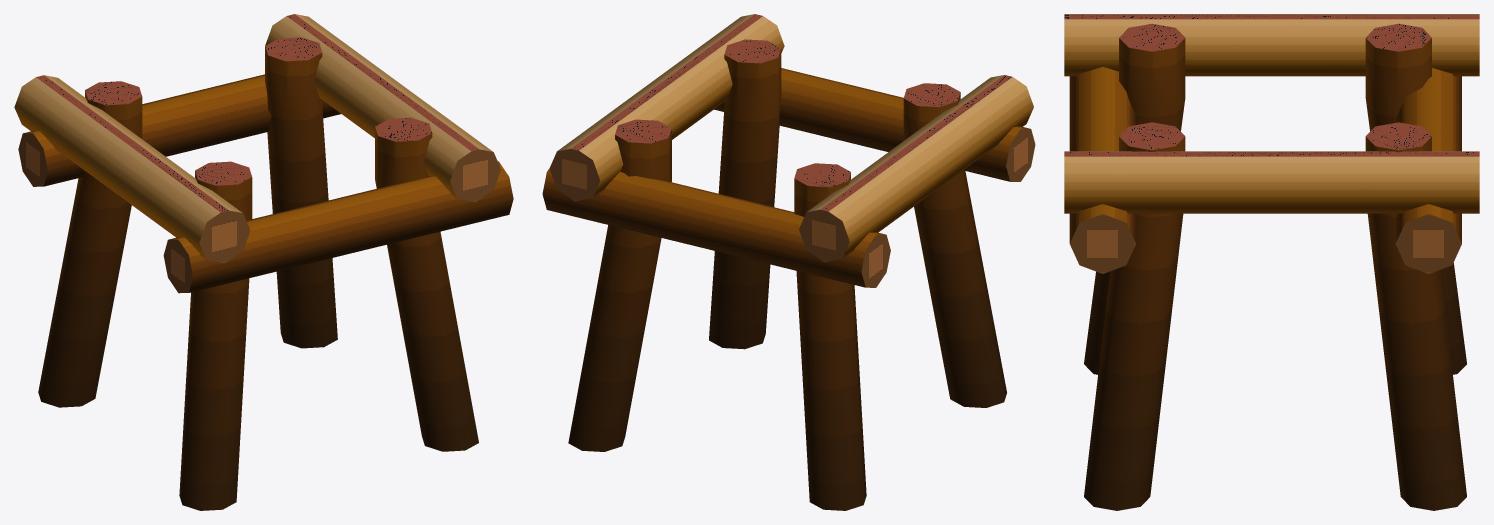
File: TowerLv1Phase1.fbx
The picture shows the model from 3 angles, left to right: view 1: azimuth 30°, elevation 25°; view 2: azimuth 150°, elevation 25°; view 3: azimuth 270°, elevation 25°; orthographic projection. The views are drawn at different scales.
Visible parts, largest first — view 1: tower_lvl1; view 2: tower_lvl1; view 3: tower_lvl1.
Boxes of the visible parts, box(x1,y1,x2,y2) form: tower_lvl1: box(14, 14, 513, 510); tower_lvl1: box(542, 14, 1035, 510); tower_lvl1: box(1064, 14, 1479, 510).
Bounding box in the file's own units: 20 × 18.26 × 20.
